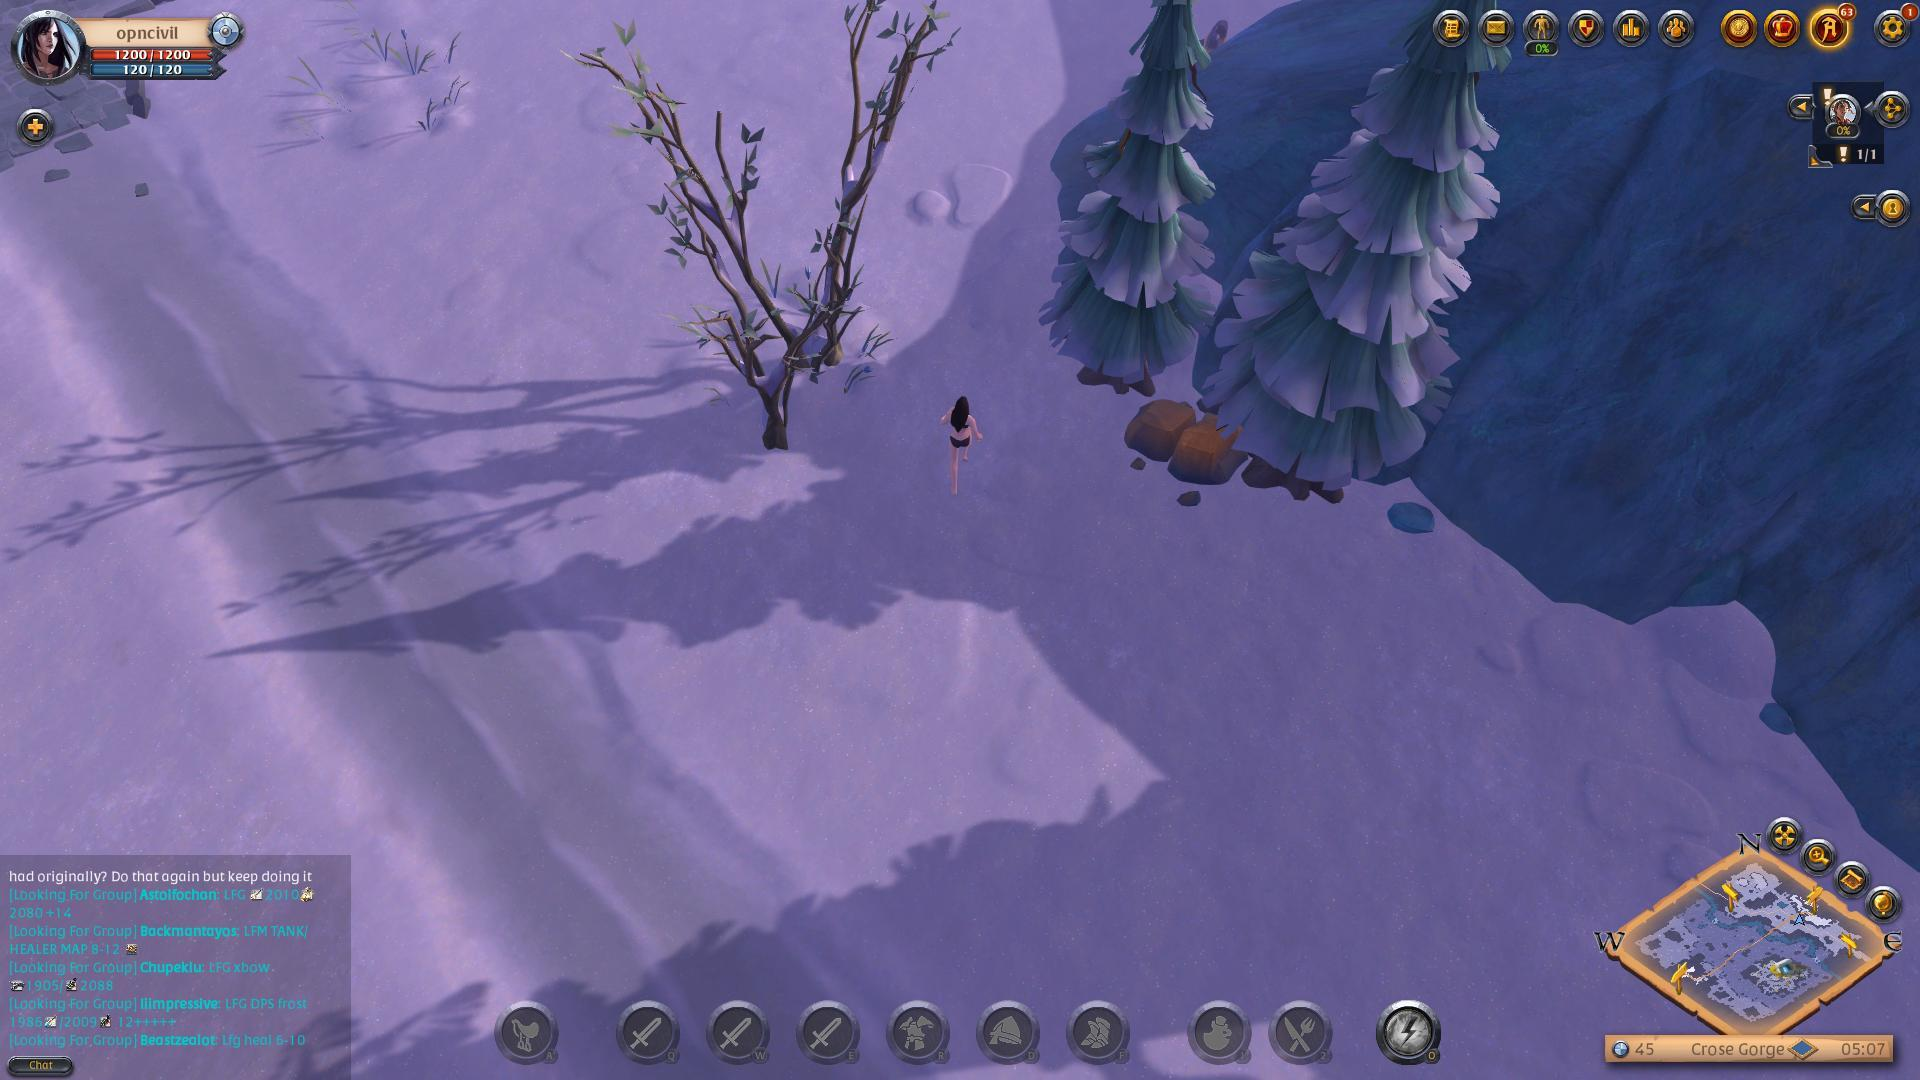limestone: (1126, 393, 1244, 491)
